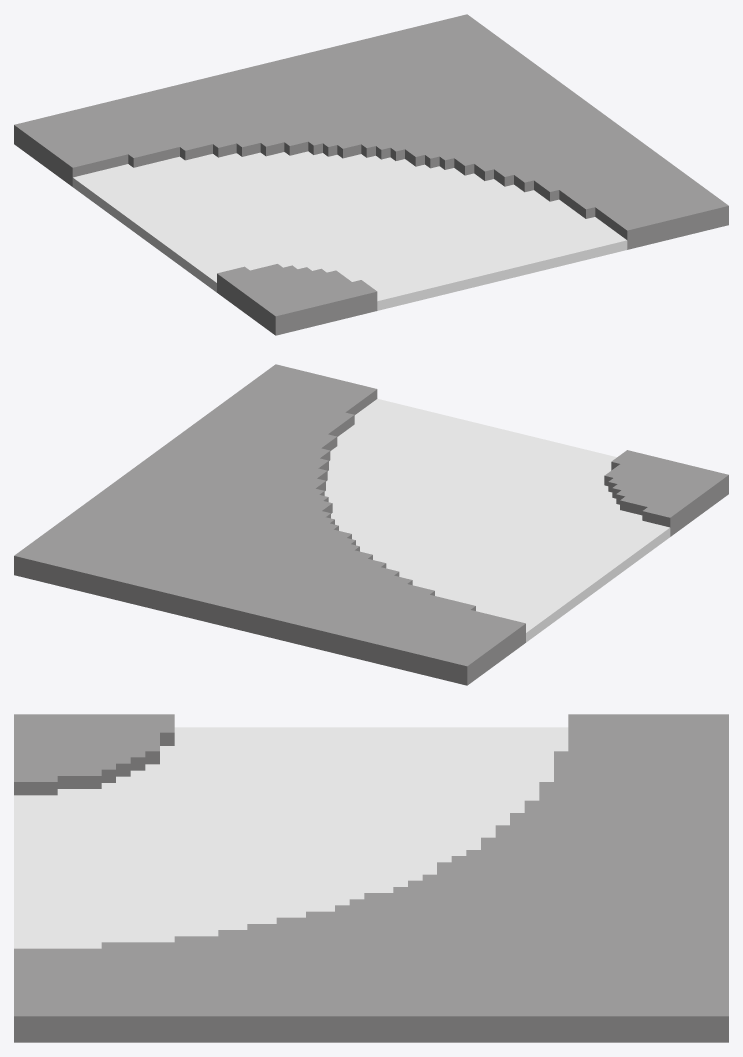
The model's file is road_TR_49_test.glb.
3 renders of one model, top to bottom at view 1: azimuth 30°, elevation 25°; view 2: azimuth 150°, elevation 25°; view 3: azimuth 270°, elevation 25°, orthographic. The views are drawn at different scales.
Parts seen in each view (by area): view 1: stone, tar.001, ink.001; view 2: stone, tar.001, ink.001; view 3: stone, tar.001, ink.001.
Boxes of the visible parts, box(x1,y1,x2,y2) form: stone: box(14, 14, 728, 335); tar.001: box(78, 155, 617, 308); ink.001: box(72, 151, 627, 310); stone: box(14, 364, 728, 685); tar.001: box(326, 401, 664, 638); ink.001: box(324, 398, 670, 642); stone: box(14, 714, 728, 1042); tar.001: box(14, 727, 553, 948); ink.001: box(14, 727, 568, 881).
Size of the model in its own units: 49 by 2 by 49.
Materials: 3 (3 with a texture image).
